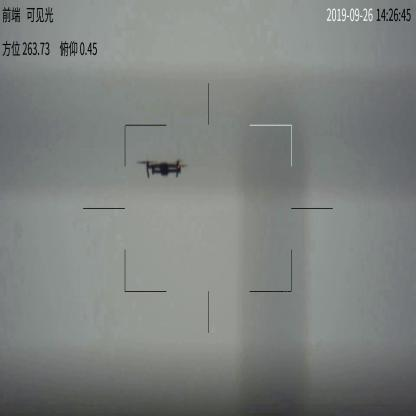uav: (139, 156, 186, 180)
